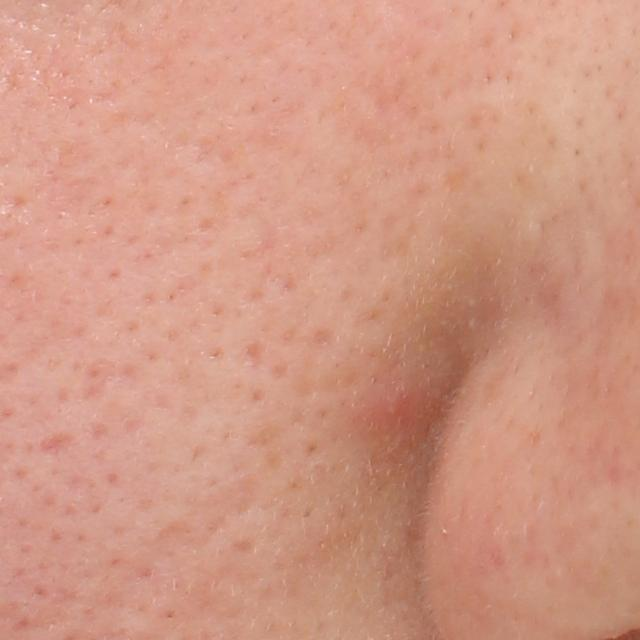atrophic_scar: (38, 429, 78, 457)
